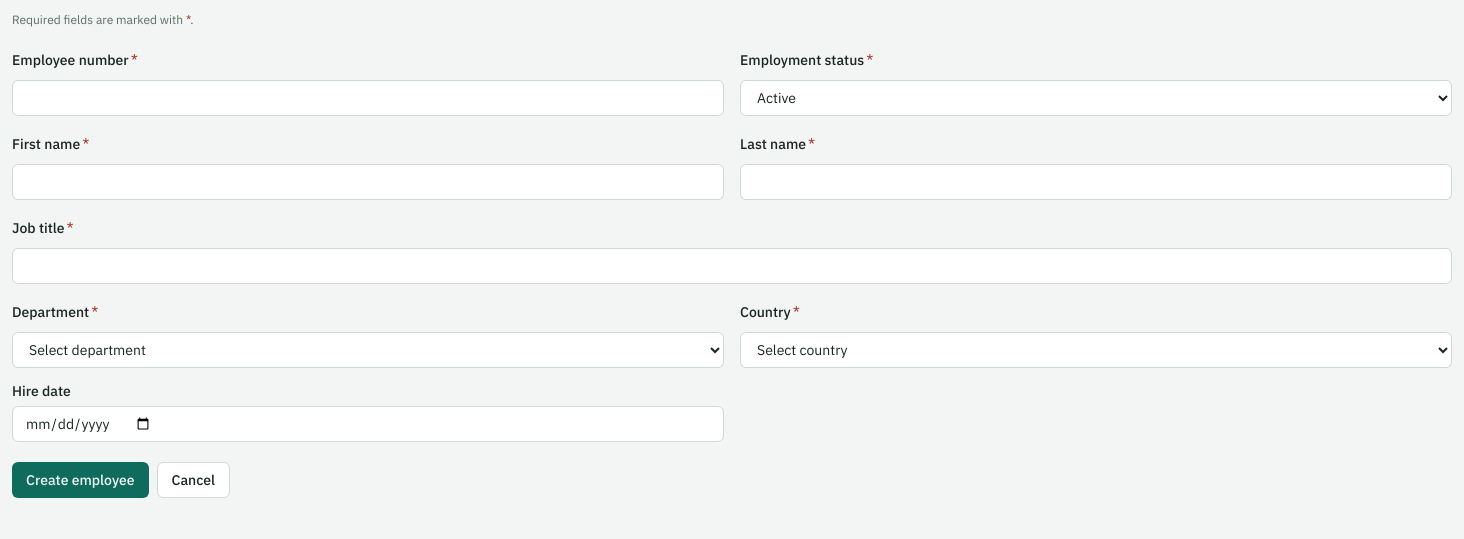
Test case: EmployeeForm › maps EMPLOYEE_NUMBER_CONFLICT to the employee number field and keeps values
This screenshot has width=1464, height=539.
Type "E-100" into the field labelled "Employee number" at coordinates (368, 98), box [12,80,724,116]
Type "Ada" into the field labelled "First name" at coordinates (368, 182), box [12,164,724,200]
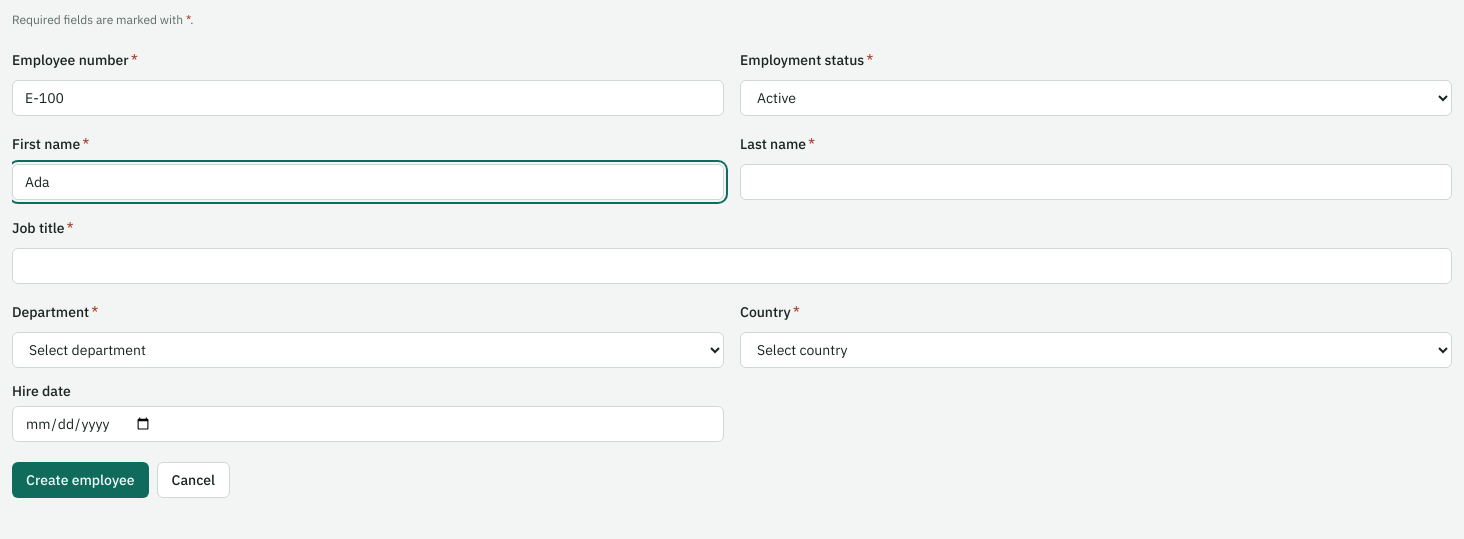
Type "Lovelace" into the field labelled "Last name" at coordinates (1096, 182), box [740,164,1452,200]
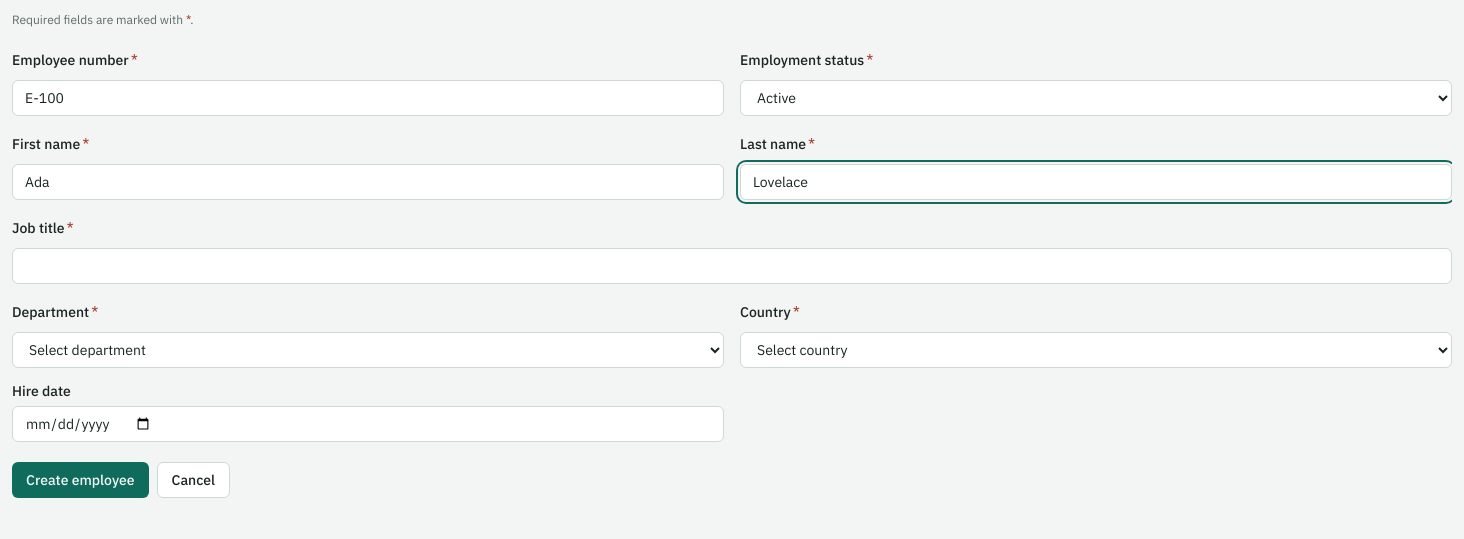
Type "Engineer" into the field labelled "Job title" at coordinates (732, 266), box [12,248,1452,284]
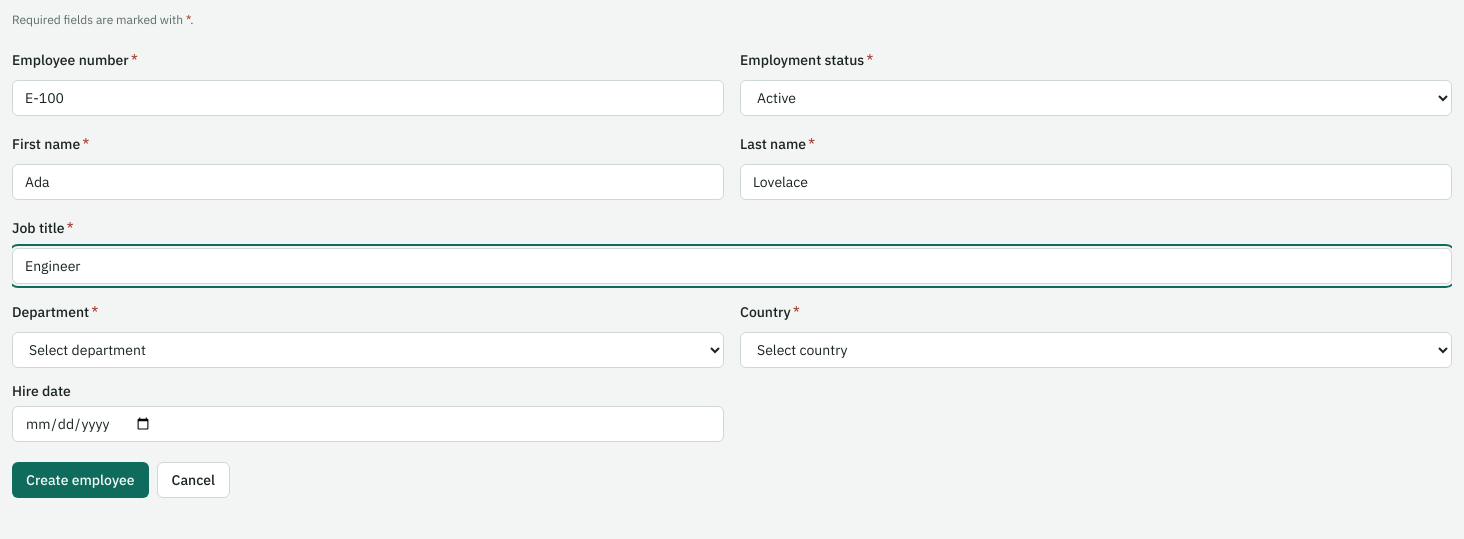
Select "Engineering" in the dropdown labelled "Department" at coordinates (368, 350), box [12,332,724,368]
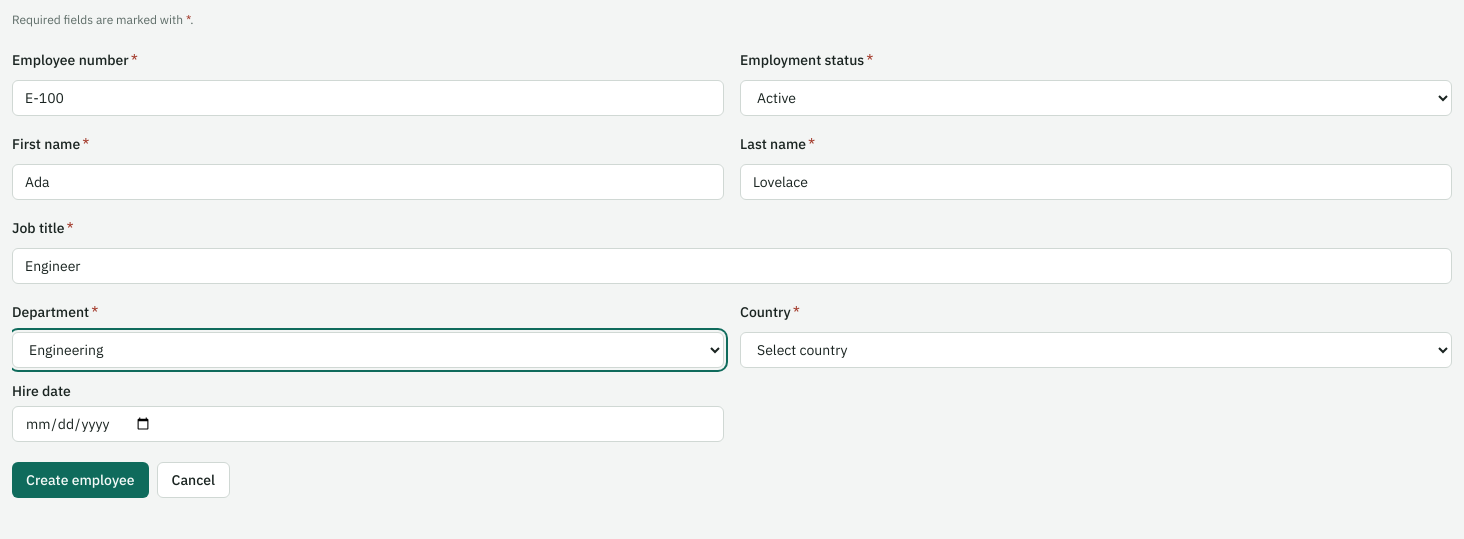
Select "United States" in the dropdown labelled "Country" at coordinates (1096, 350), box [740,332,1452,368]
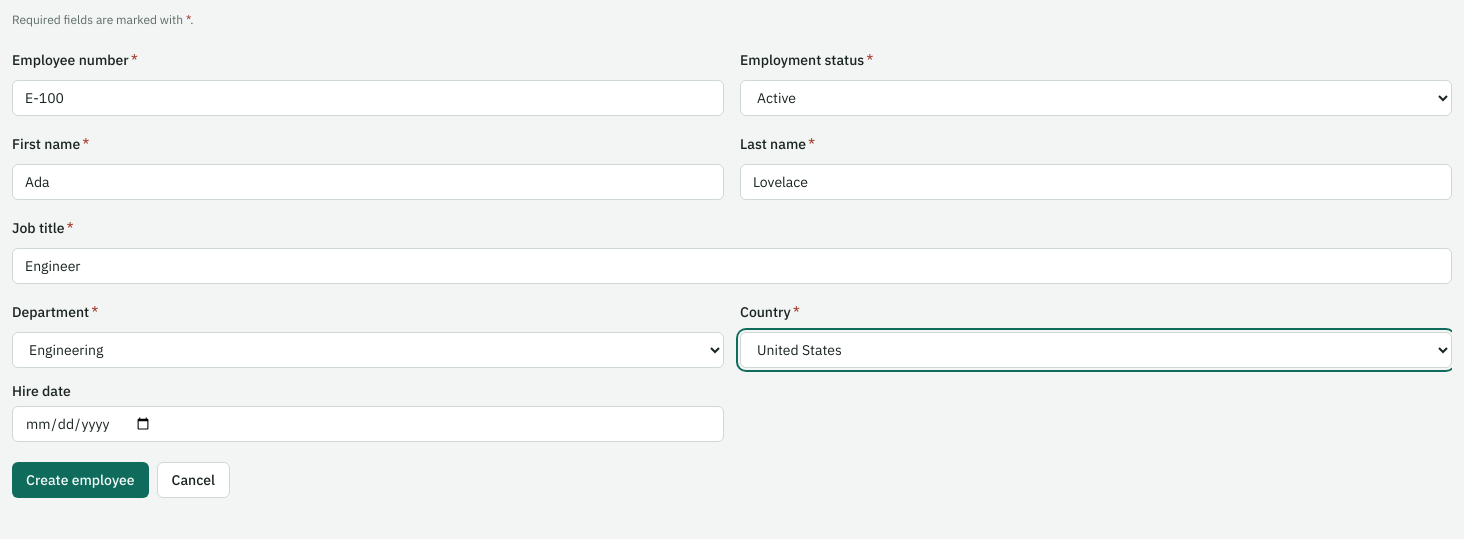
Click the button "Create employee" at coordinates (80, 480), box [12,462,148,498]
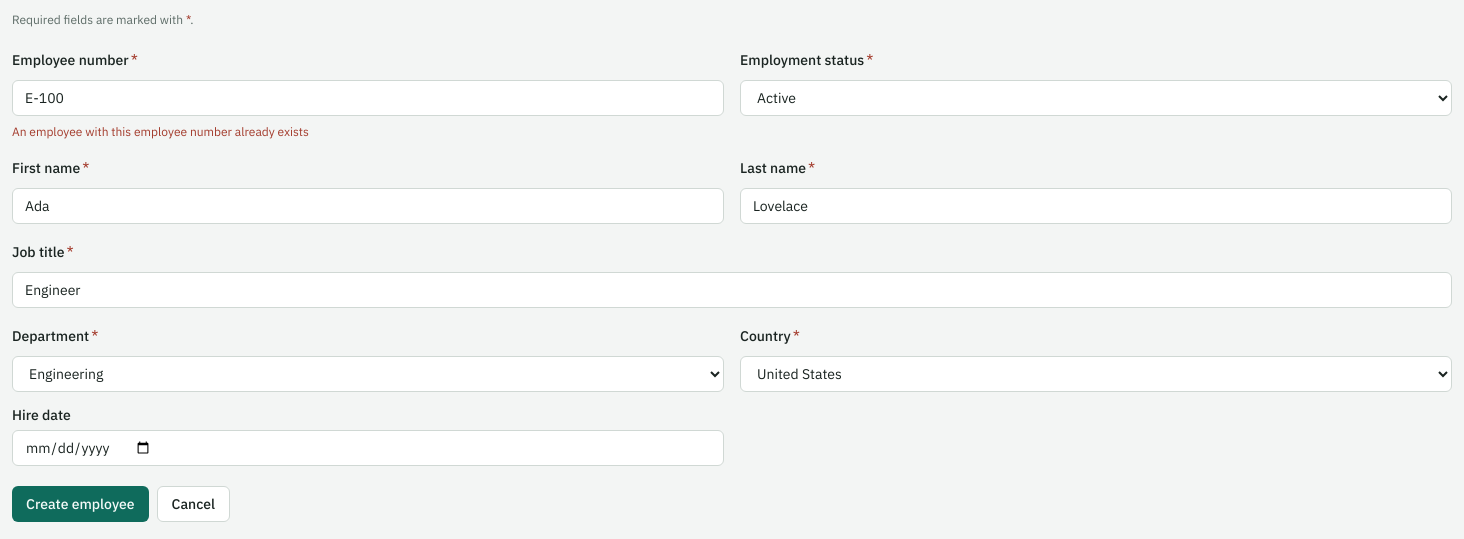
Check: the text "An employee with this employee number already exists" is shown, box [12,124,309,139]
